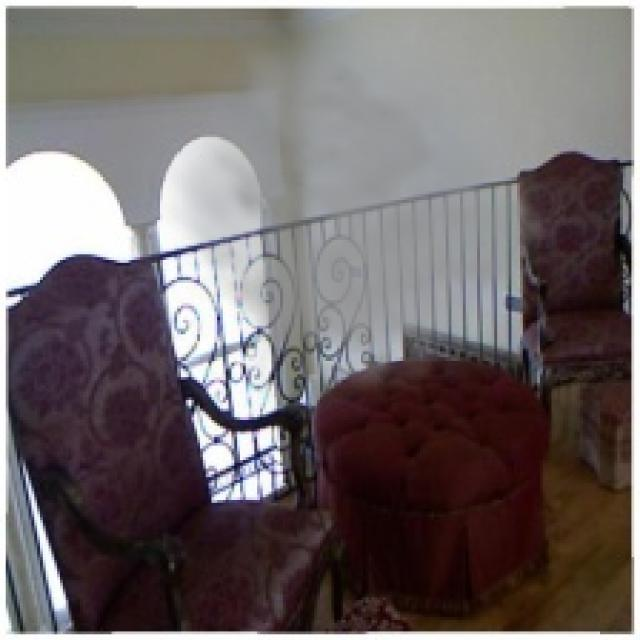smoke: (145, 20, 566, 434)
